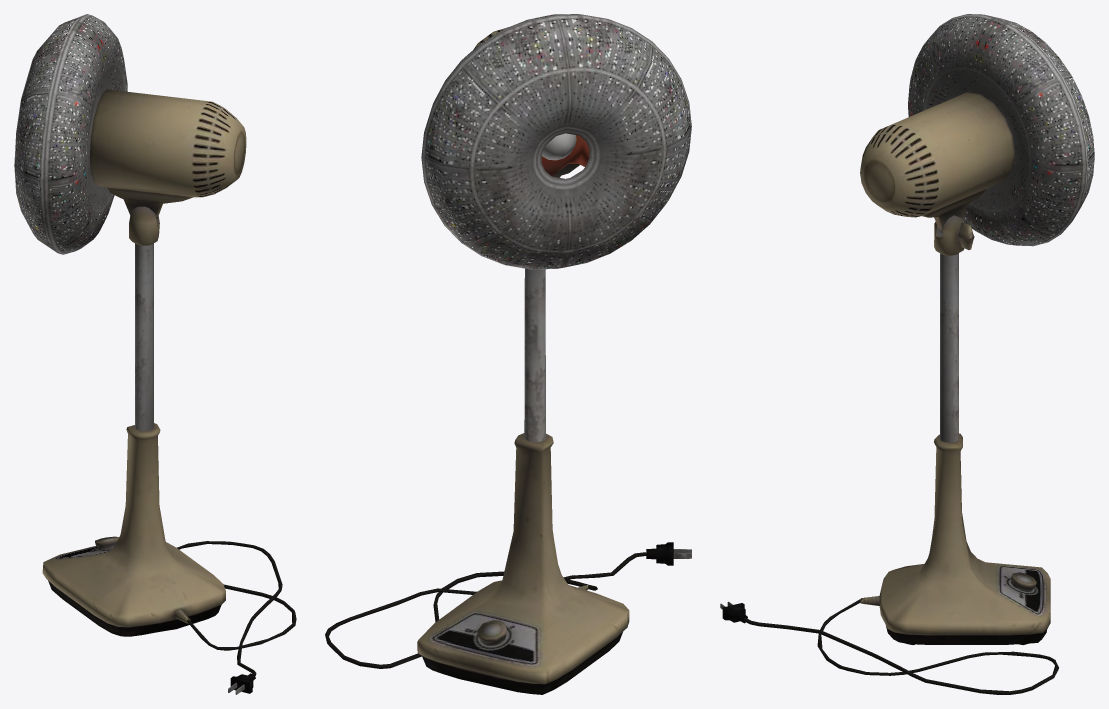
Rendered from electric_fan_b.glb.
The picture shows the model from 3 angles, left to right: view 1: azimuth 30°, elevation 25°; view 2: azimuth 150°, elevation 25°; view 3: azimuth 270°, elevation 25°; orthographic projection. The views are drawn at different scales.
Parts seen in each view (by area): view 1: electric_fan_b; view 2: electric_fan_b; view 3: electric_fan_b.
Boxes of the visible parts, x1,y1,x2,y2 form: electric_fan_b: (14, 14, 296, 694); electric_fan_b: (325, 14, 691, 694); electric_fan_b: (720, 14, 1094, 694).
Bounding box in the file's own units: 0.6112 × 1.23 × 0.7182.
Materials: 1 (1 with a texture image).
